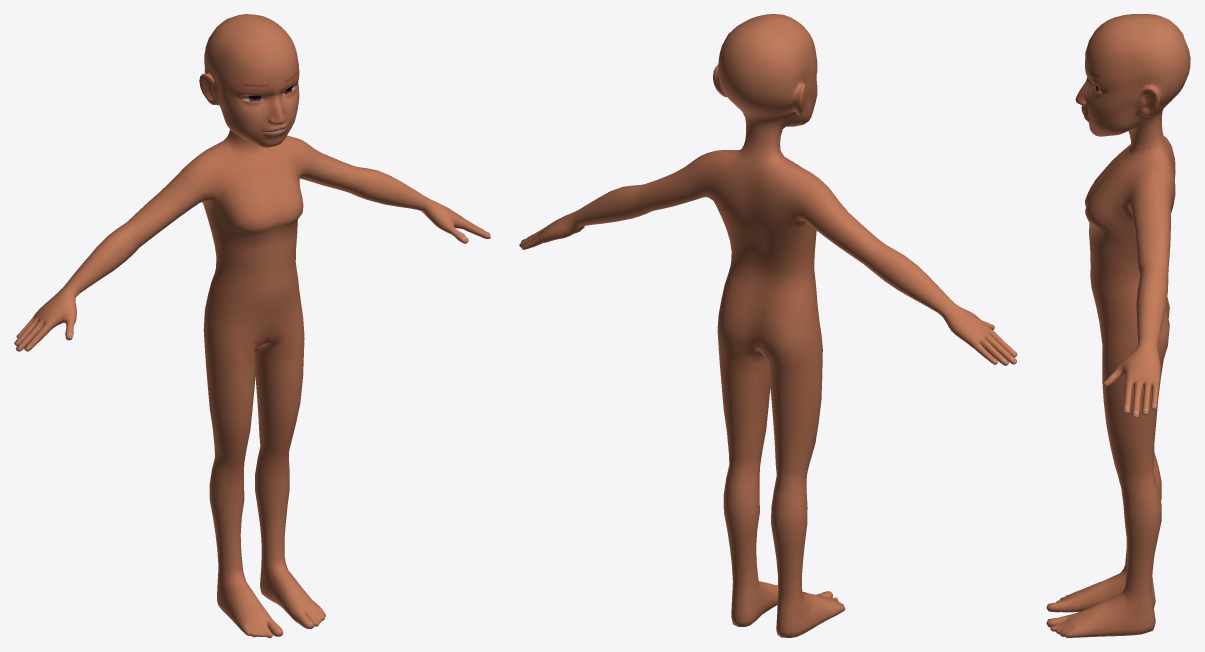
File: frame_0086.glb
3 views of the same model, side by side, from view 1: azimuth 30°, elevation 25°; view 2: azimuth 150°, elevation 25°; view 3: azimuth 270°, elevation 25° (orthographic). The views are drawn at different scales.
Parts seen in each view (by area): view 1: frame_0086_head_geo; view 2: frame_0086_head_geo; view 3: frame_0086_head_geo.
Boxes of the visible parts, x1,y1,x2,y2 form: frame_0086_head_geo: [14, 14, 490, 637]; frame_0086_head_geo: [519, 14, 1017, 637]; frame_0086_head_geo: [1046, 14, 1190, 637].
Bounding box in the file's own units: 1.28 × 1.5 × 0.3253.
3 materials, 3 textured.
